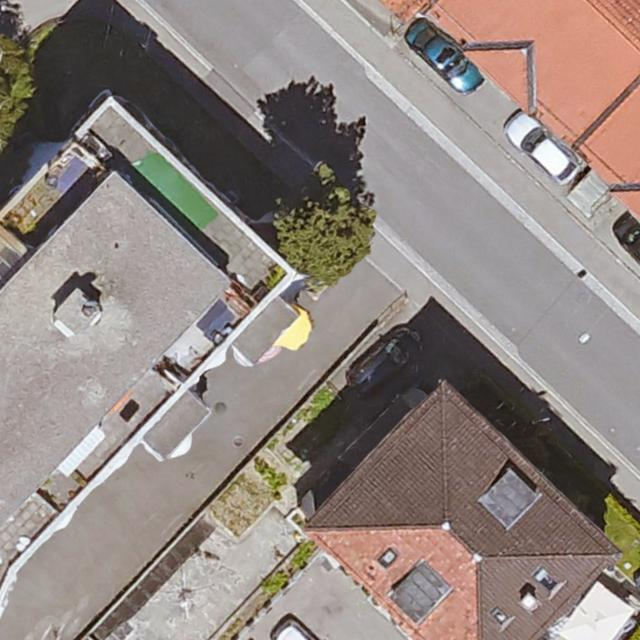tree: (275, 184, 374, 284), (0, 24, 33, 161)
